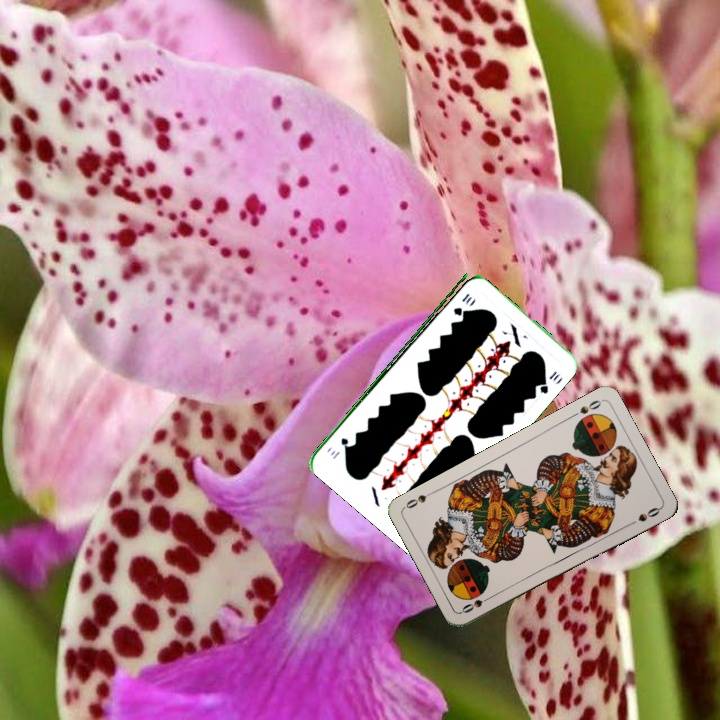G10: (449, 289, 475, 317)
SO: (458, 591, 496, 616), (567, 396, 604, 420)
